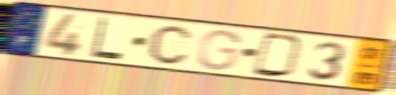3: (307, 40, 347, 82)
4: (43, 12, 82, 57)
C: (147, 23, 193, 66)
D: (250, 30, 306, 79)
G: (195, 28, 243, 72)
L: (89, 16, 124, 62)
